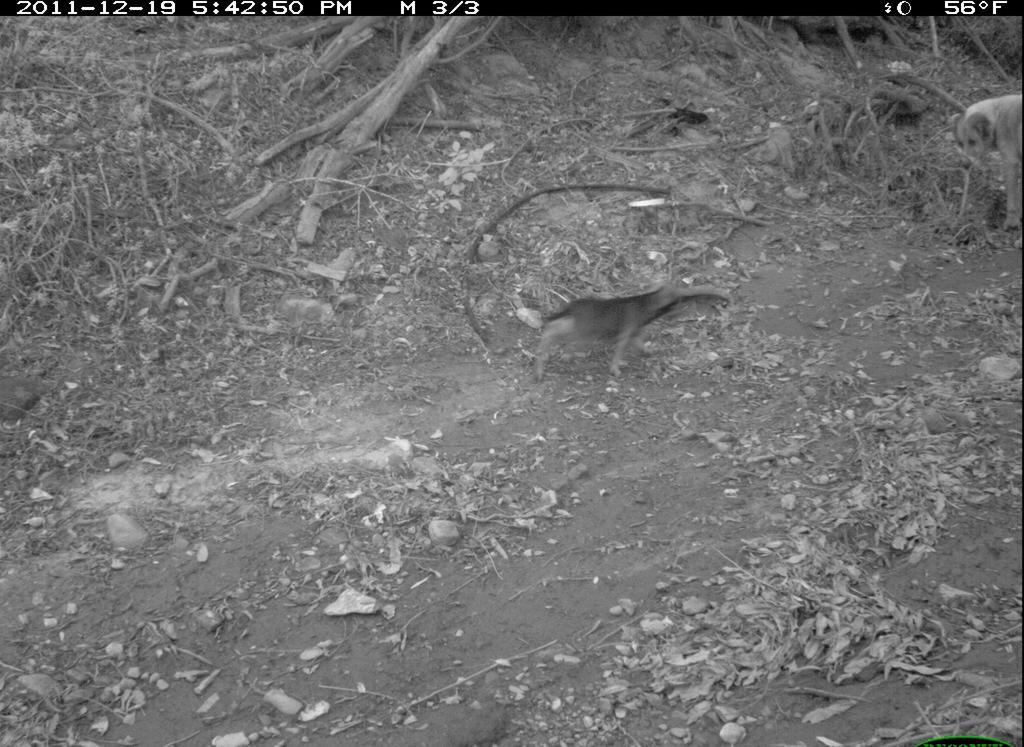dog: (523, 274, 690, 385), (944, 88, 1023, 231)
